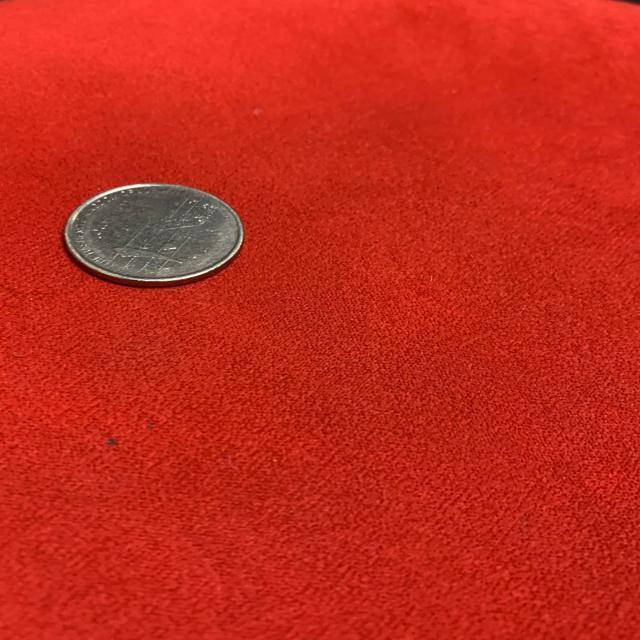10-coins: (64, 182, 244, 290)
